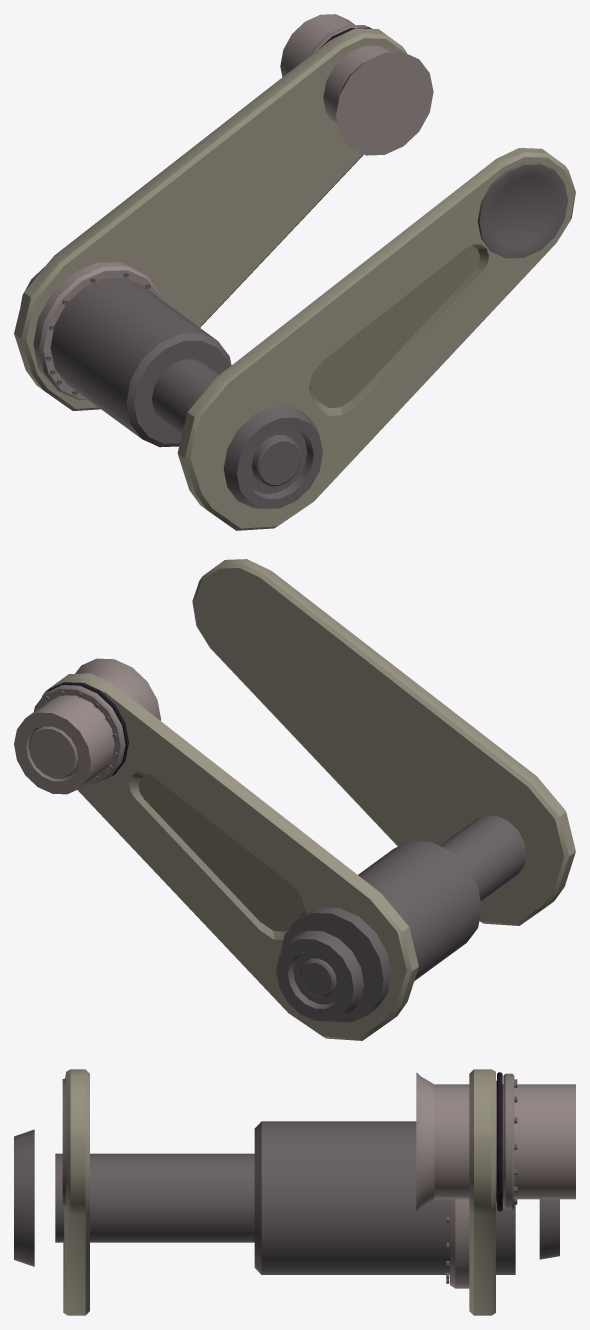
Rendered from Arm.dae.
3 renders of one model, top to bottom at view 1: azimuth 30°, elevation 25°; view 2: azimuth 150°, elevation 25°; view 3: azimuth 270°, elevation 25°, orthographic. The views are drawn at different scales.
Visible parts, largest first — view 1: arm; view 2: arm; view 3: arm.
Boxes of the visible parts, <box> form: arm: <box>14,14,575,530</box>; arm: <box>14,559,575,1040</box>; arm: <box>14,1069,575,1315</box>.
Size of the model in its own units: 0.6859 by 0.6855 by 0.5243.
